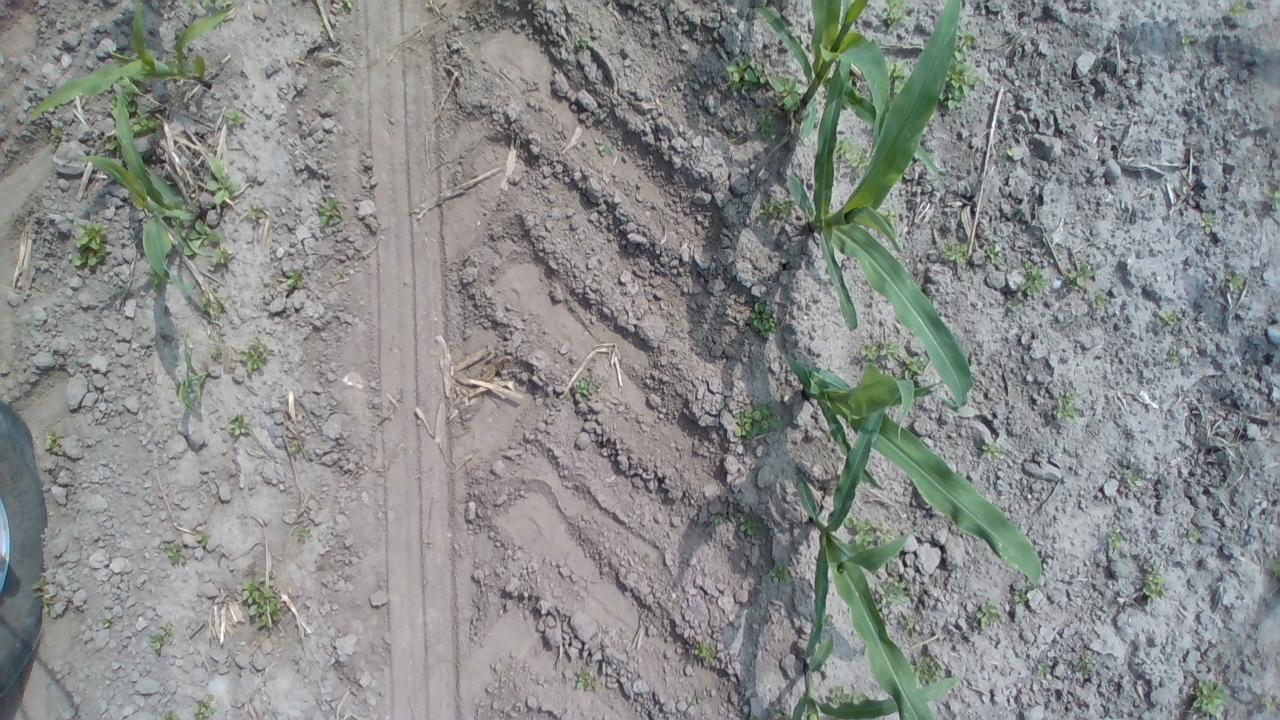Maize: (780, 1, 976, 411), (780, 341, 1046, 590), (792, 368, 936, 720), (754, 0, 956, 198), (66, 87, 196, 298), (22, 0, 234, 125), (790, 635, 959, 719), (178, 326, 212, 419)
Weeds: (724, 55, 806, 112), (937, 28, 982, 112), (239, 576, 282, 628), (68, 221, 109, 271), (170, 219, 223, 256), (733, 403, 785, 439), (204, 158, 240, 206), (1192, 676, 1230, 718), (858, 340, 900, 371), (746, 300, 780, 338), (873, 574, 913, 606), (834, 136, 868, 173), (237, 336, 270, 374), (30, 574, 60, 614), (908, 654, 942, 688), (1062, 259, 1098, 290), (844, 514, 874, 550), (1018, 262, 1049, 296), (975, 598, 1003, 634), (756, 196, 792, 224), (1142, 566, 1166, 606), (936, 237, 969, 264), (120, 79, 146, 112), (1052, 391, 1078, 424), (573, 373, 600, 404), (826, 687, 872, 705), (884, 60, 906, 97), (318, 198, 345, 228), (199, 289, 227, 317), (755, 108, 779, 140), (880, 0, 910, 25), (128, 114, 162, 136), (691, 640, 716, 669), (146, 624, 170, 654), (226, 411, 252, 438), (901, 354, 926, 382), (768, 560, 792, 586), (193, 694, 218, 718), (736, 513, 760, 537), (576, 669, 602, 691), (876, 520, 898, 544), (146, 267, 170, 289), (164, 543, 188, 564), (210, 246, 233, 266), (983, 242, 1003, 264), (1224, 272, 1244, 293), (1075, 657, 1095, 678), (44, 429, 63, 451), (1157, 310, 1180, 328), (1106, 528, 1124, 551), (284, 268, 304, 288), (204, 0, 234, 13), (768, 704, 792, 720), (980, 442, 1000, 461), (222, 110, 245, 126), (594, 136, 612, 156), (1178, 33, 1196, 53), (881, 206, 899, 225), (1091, 292, 1109, 310), (1229, 0, 1248, 17), (1200, 212, 1216, 232), (1012, 588, 1028, 607), (902, 614, 917, 634), (1264, 188, 1276, 212), (104, 135, 120, 152), (1259, 696, 1276, 712), (1165, 349, 1181, 366), (688, 690, 706, 705), (159, 707, 181, 719), (246, 204, 262, 220), (286, 440, 304, 454), (1036, 662, 1050, 680), (184, 0, 199, 16), (1264, 556, 1276, 576), (1124, 474, 1140, 489), (863, 472, 880, 486), (708, 513, 725, 527), (49, 124, 62, 142), (332, 80, 347, 95), (194, 532, 210, 546), (574, 36, 590, 50), (297, 526, 312, 540), (1008, 299, 1024, 312), (1186, 528, 1200, 542), (1000, 146, 1014, 160), (100, 616, 112, 628), (341, 0, 354, 11)
